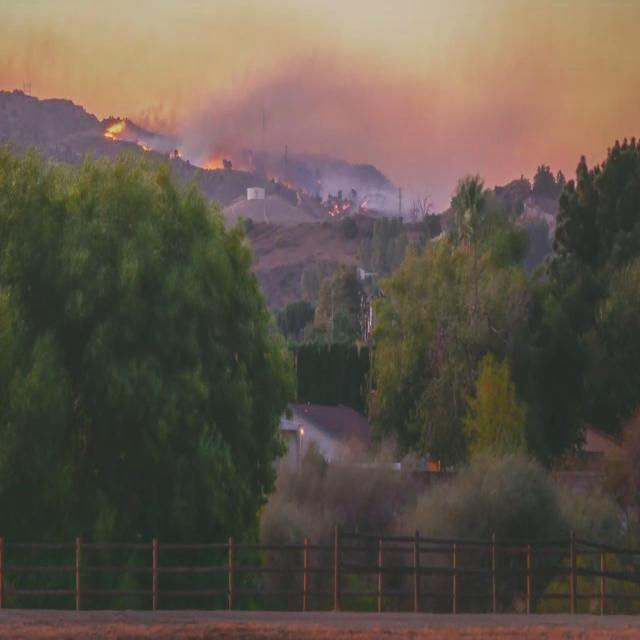Fire: (102, 118, 127, 144), (202, 154, 224, 170), (330, 201, 352, 216), (169, 149, 181, 161), (141, 143, 151, 152), (362, 196, 368, 210)
